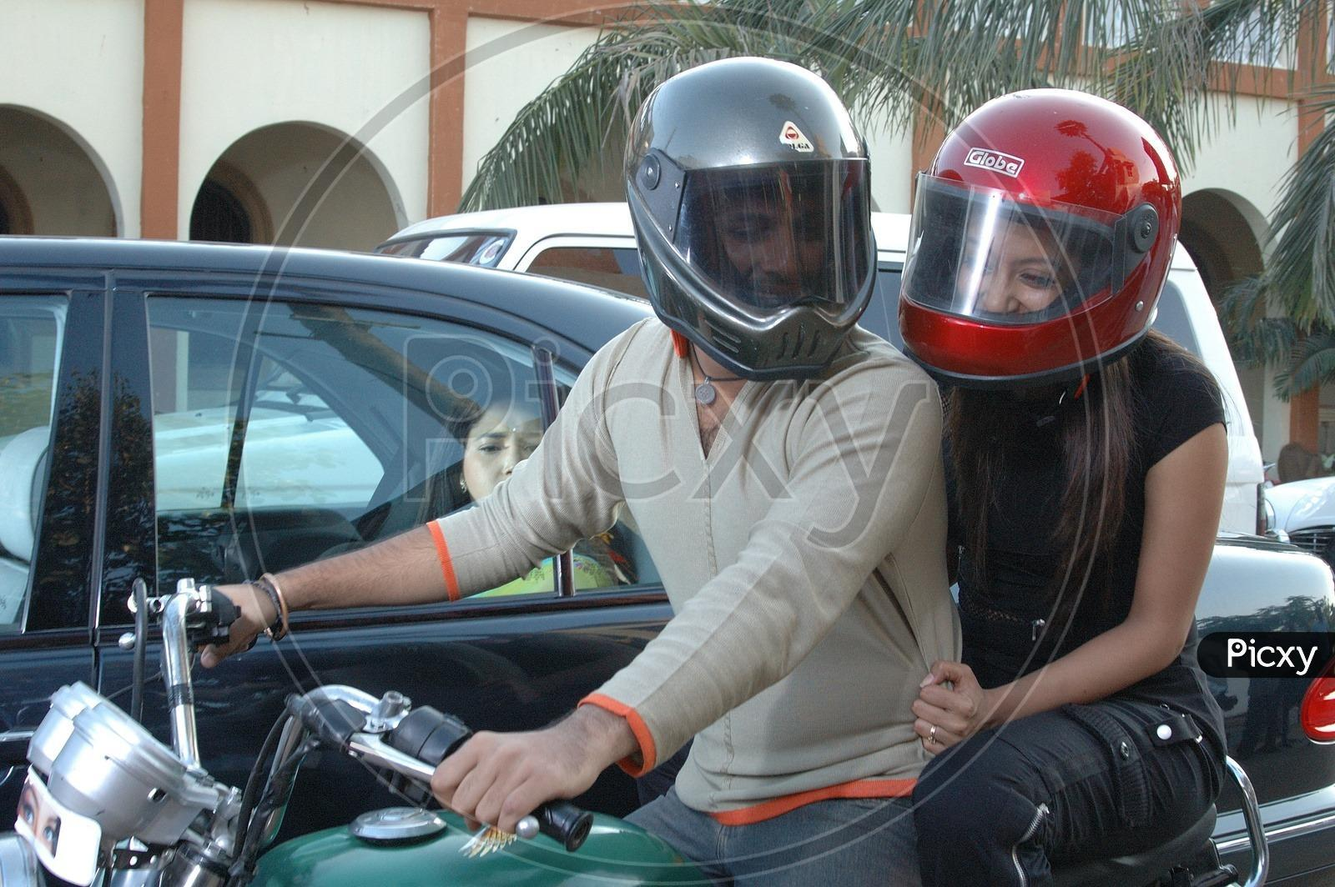helmet: (894, 86, 1183, 394), (623, 54, 879, 384)
